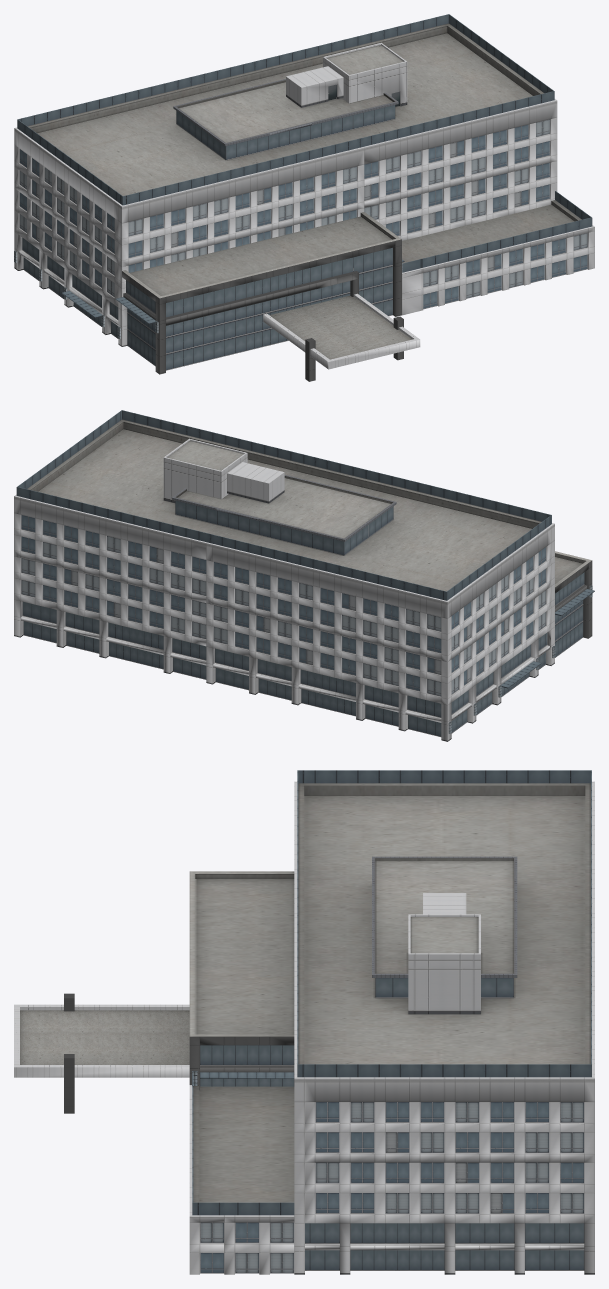
3 views of the same model, one above another, from view 1: azimuth 30°, elevation 25°; view 2: azimuth 150°, elevation 25°; view 3: azimuth 270°, elevation 25° (orthographic). The views are drawn at different scales.
Parts seen in each view (by area): view 1: MainBuilding; view 2: MainBuilding; view 3: MainBuilding.
Part boxes in pixels (x1,y1,x2,y2): MainBuilding: (14,14,594,381); MainBuilding: (14,410,594,741); MainBuilding: (14,770,594,1274).
Bounding box in the file's own units: 6.22 × 2.37 × 5.07.
1 material, 1 textured.
